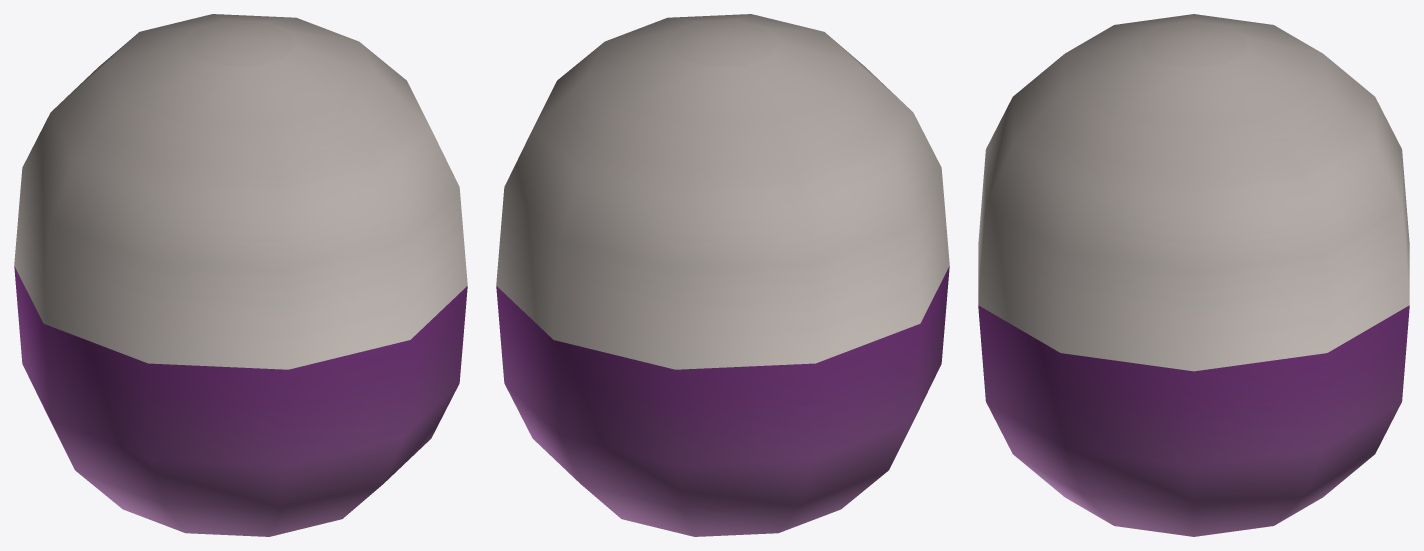
Rendered from lowzijn_niudan_Geo.fbx.
3 views of the same model, side by side, from view 1: azimuth 30°, elevation 25°; view 2: azimuth 150°, elevation 25°; view 3: azimuth 270°, elevation 25° (orthographic).
Parts seen in each view (by area): view 1: lowzijn_niudan_Geo; view 2: lowzijn_niudan_Geo; view 3: lowzijn_niudan_Geo.
Boxes of the visible parts, x1,y1,x2,y2 form: lowzijn_niudan_Geo: (14,14,467,536); lowzijn_niudan_Geo: (496,14,949,536); lowzijn_niudan_Geo: (978,14,1409,536).
Size of the model in its own units: 15.25 by 17.55 by 14.51.
